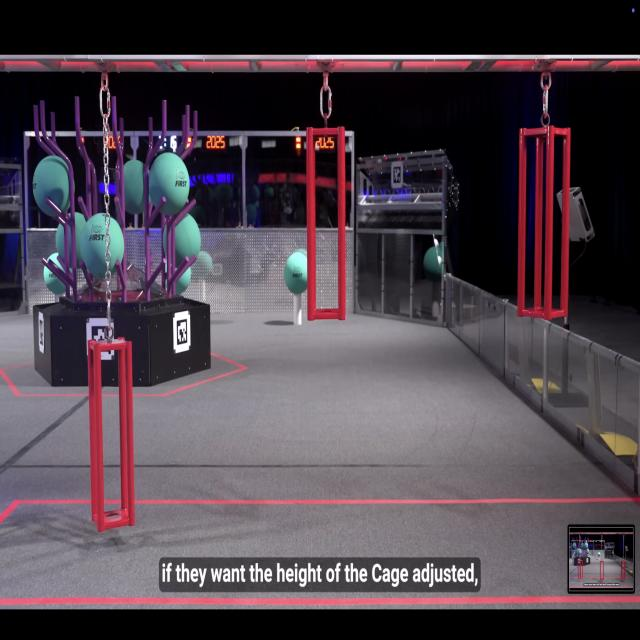algae: (31, 154, 77, 220), (81, 214, 129, 277), (149, 150, 191, 214), (113, 154, 154, 219), (164, 210, 202, 270), (54, 210, 91, 270), (40, 254, 74, 296), (282, 248, 312, 293), (166, 256, 194, 294)
coral: (291, 280, 306, 331)
